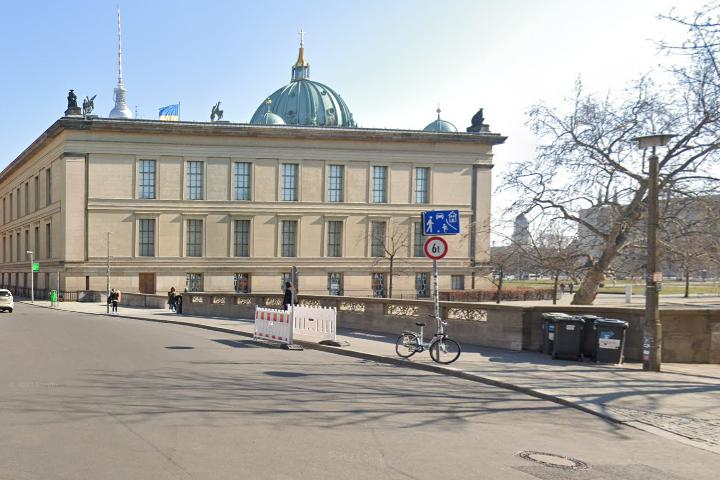traffic_sign: (424, 235, 448, 259)
